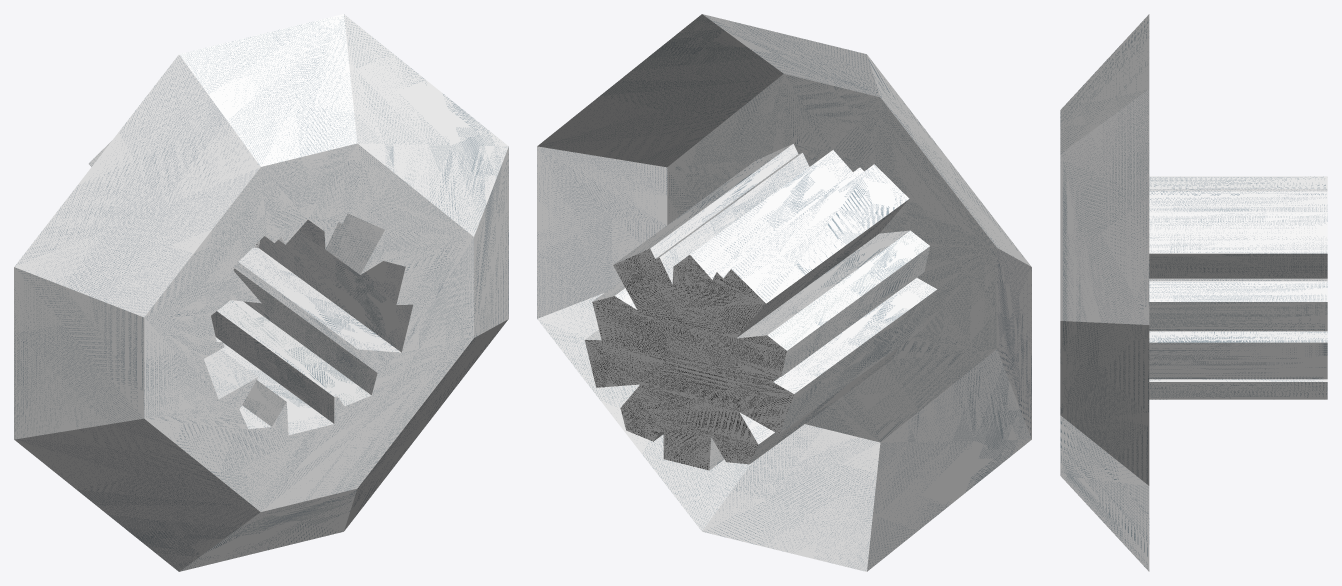
File: lock.fbx
3 renders of one model, left to right at view 1: azimuth 30°, elevation 25°; view 2: azimuth 150°, elevation 25°; view 3: azimuth 270°, elevation 25°, orthographic. The views are drawn at different scales.
Visible parts, largest first — view 1: Model; view 2: Model; view 3: Model.
Boxes of the visible parts, x1,y1,x2,y2 form: Model: [14, 14, 508, 571]; Model: [537, 14, 1031, 571]; Model: [1060, 14, 1327, 571].
Size of the model in its own units: 6 by 6 by 3.01.
